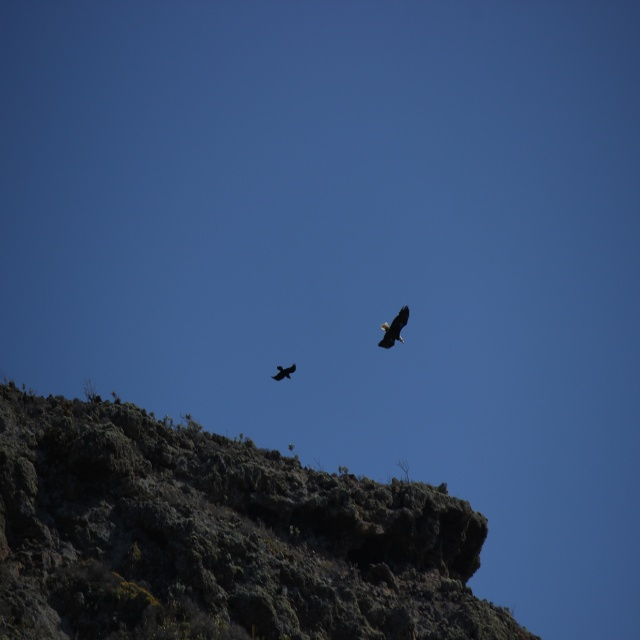Eagle: (378, 305, 409, 349), (271, 363, 296, 381)
